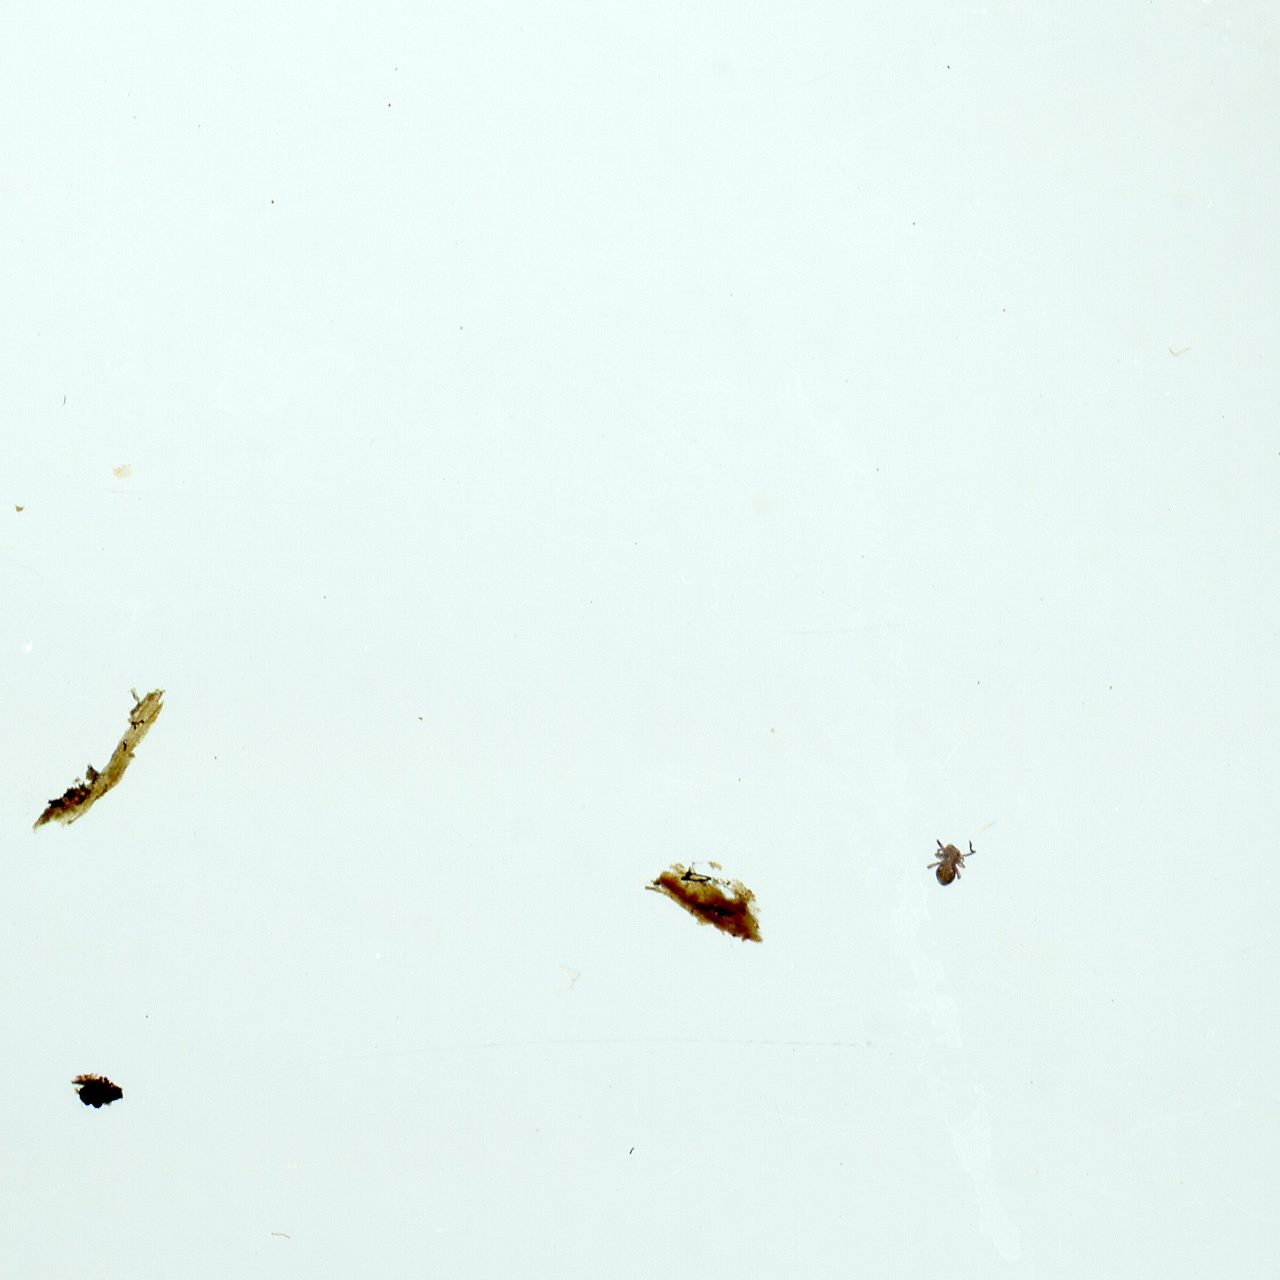arthropod: (922, 836, 979, 890)
